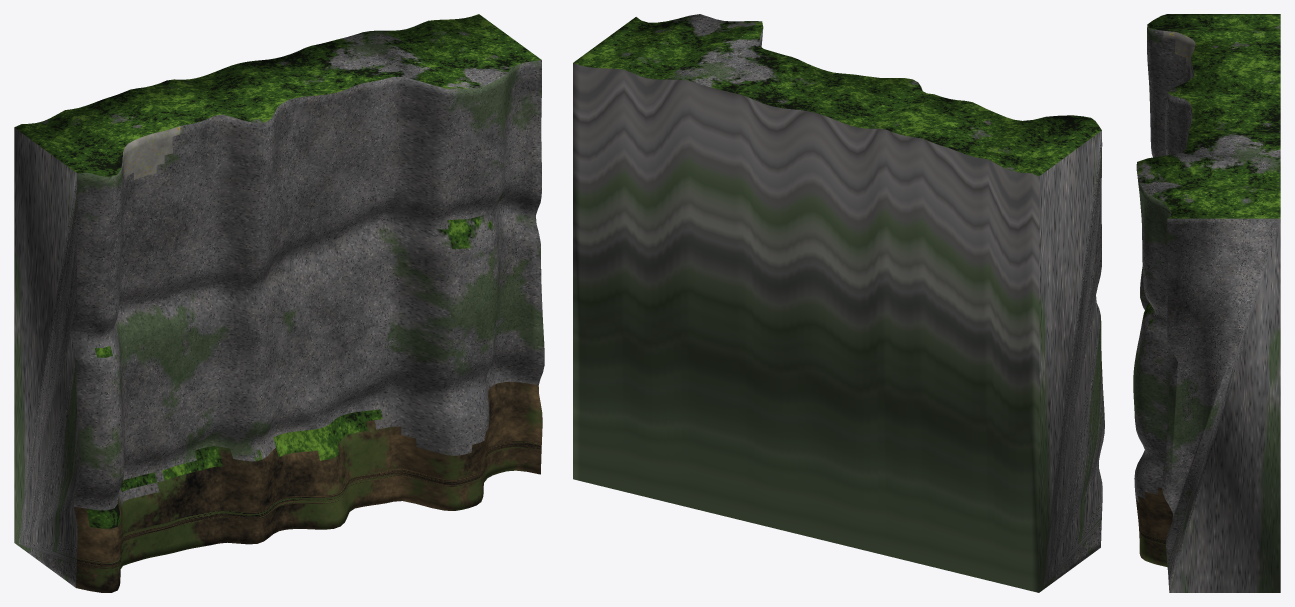
Rendered from Cliff_Face_B.glb.
The picture shows the model from 3 angles, left to right: view 1: azimuth 30°, elevation 25°; view 2: azimuth 150°, elevation 25°; view 3: azimuth 270°, elevation 25°; orthographic projection. The views are drawn at different scales.
Visible parts, largest first — view 1: Cliff_Face_B__Stone; view 2: Cliff_Face_B__Stone; view 3: Cliff_Face_B__Stone.
Part boxes in pixels (x1,y1,x2,y2): Cliff_Face_B__Stone: [14, 14, 544, 592]; Cliff_Face_B__Stone: [573, 14, 1104, 592]; Cliff_Face_B__Stone: [1133, 14, 1280, 592].
Bounding box in the file's own units: 16 × 14 × 4.88.
1 material, 1 textured.
